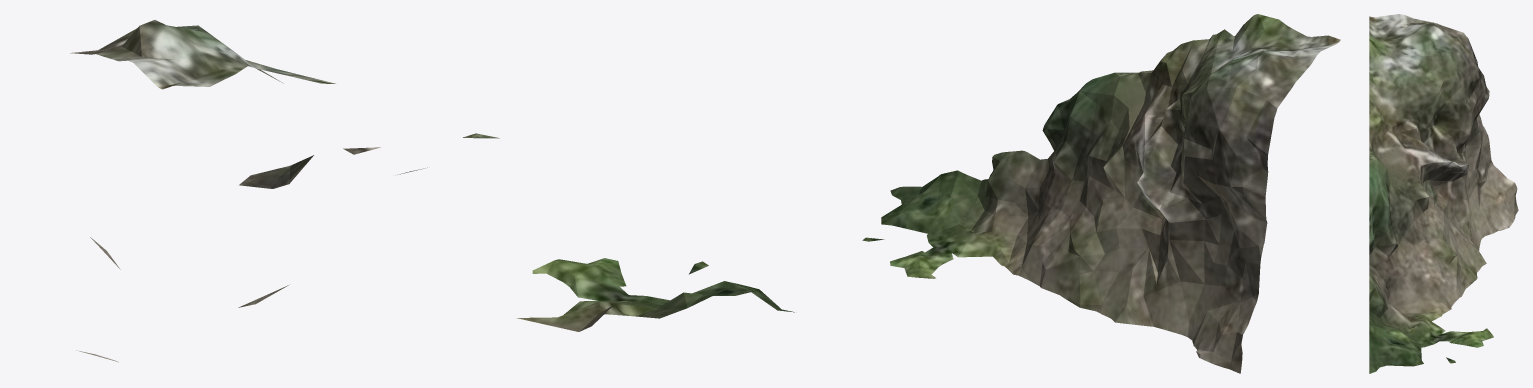
3 views of the same model, side by side, from view 1: azimuth 30°, elevation 25°; view 2: azimuth 150°, elevation 25°; view 3: azimuth 270°, elevation 25° (orthographic). The views are drawn at different scales.
Size of the model in its own units: 2.68 by 1.52 by 1.03.
1 material, 1 textured.
